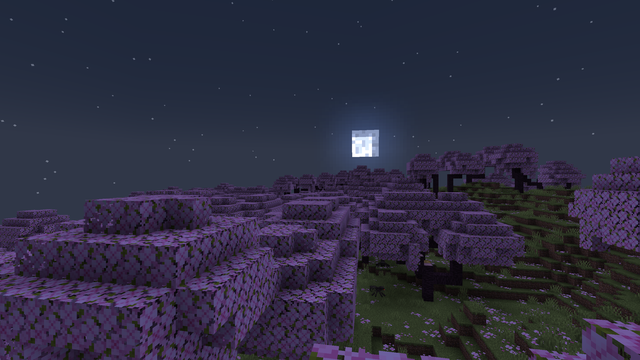araignees: (371, 283, 383, 296), (377, 258, 387, 267)
